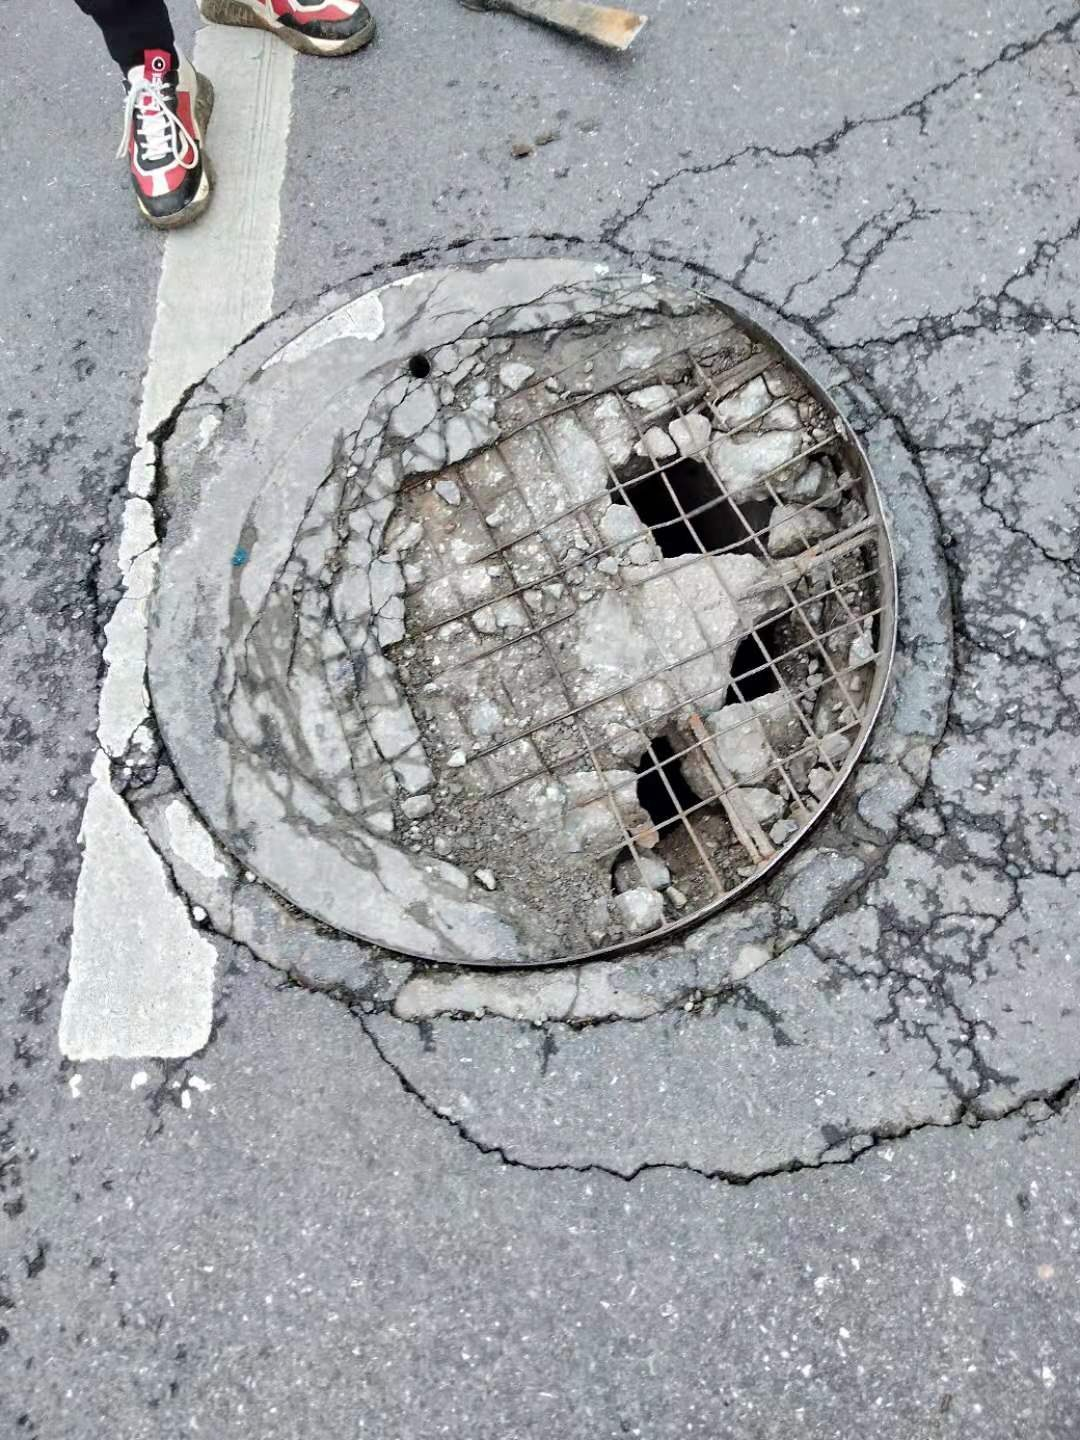broke: (104, 237, 904, 990)
